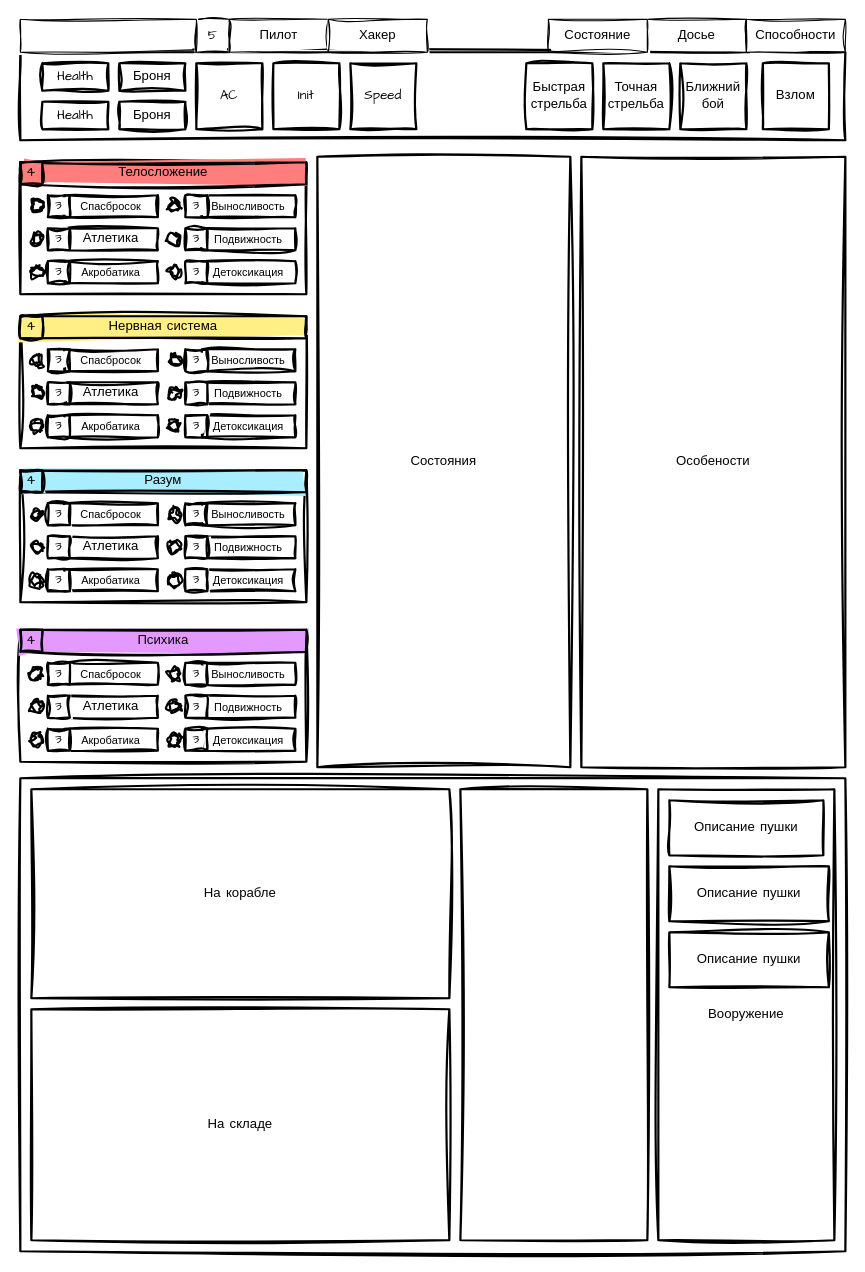
This 865x1272 diagram has some shape labels left out. The centre of each missing label's shape, as x and y in pixels:
"Джекослав" goes at [107,35].
"Ссобой" goes at [553,1014].
